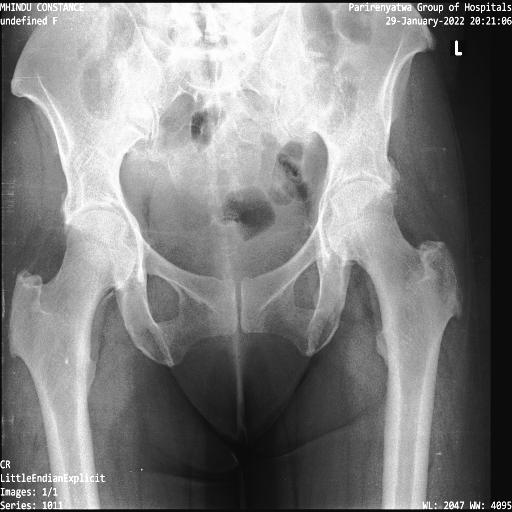normal: (327, 180, 463, 466), (9, 209, 137, 470)
